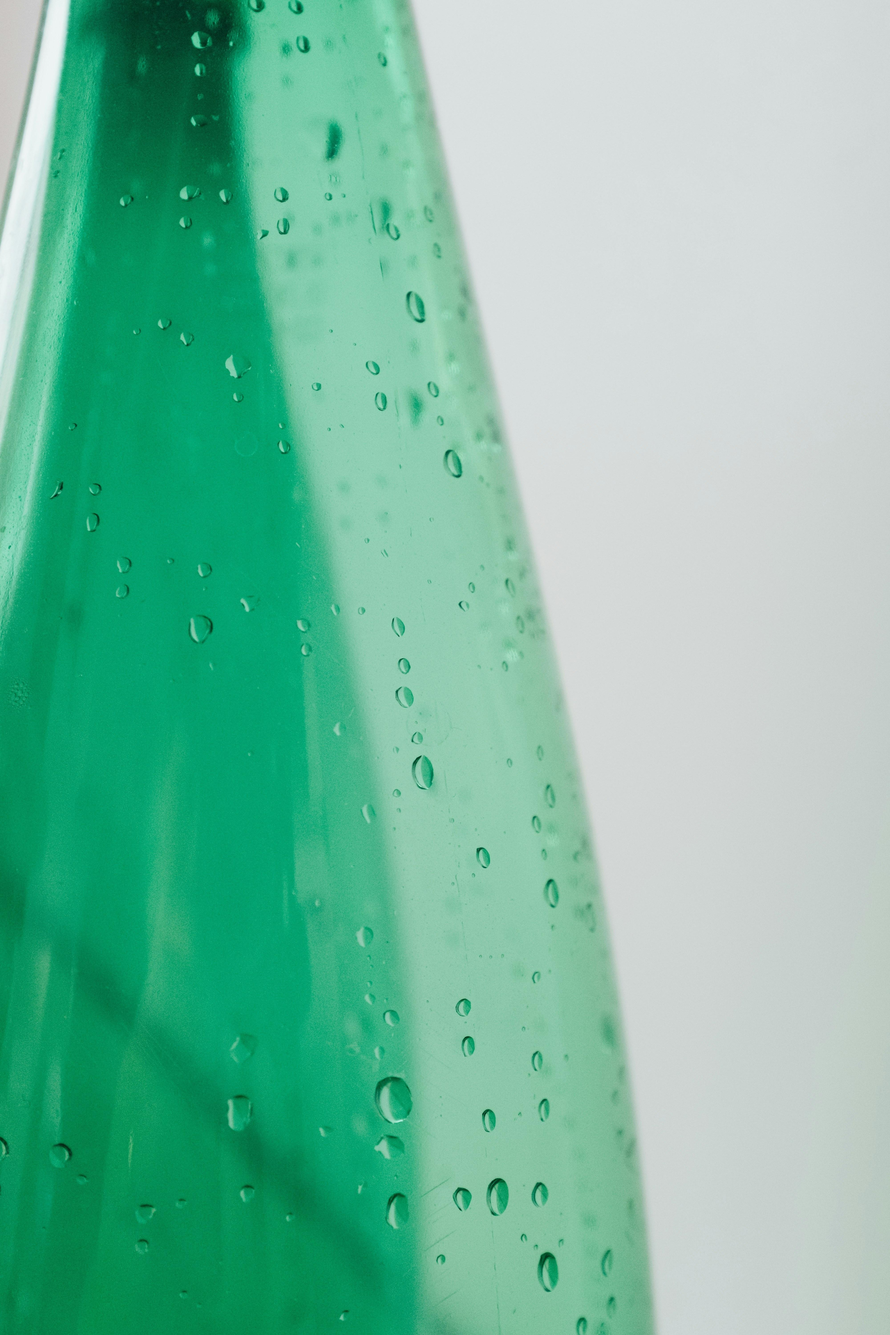Bottle-Detection: (4, 2, 701, 1335)
